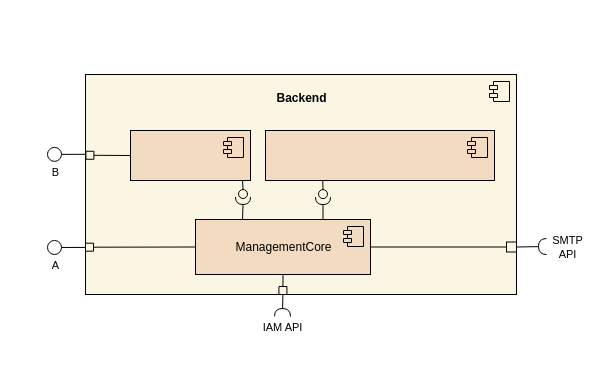
This 616x392 diagram has some shape labels left out. The shapes that lost their labels are listed below. From the top down, each one's centre as x and y in pixels, then its label:
pixel 190 155: Planning
pixel 379 155: MedicalRecordManagement
